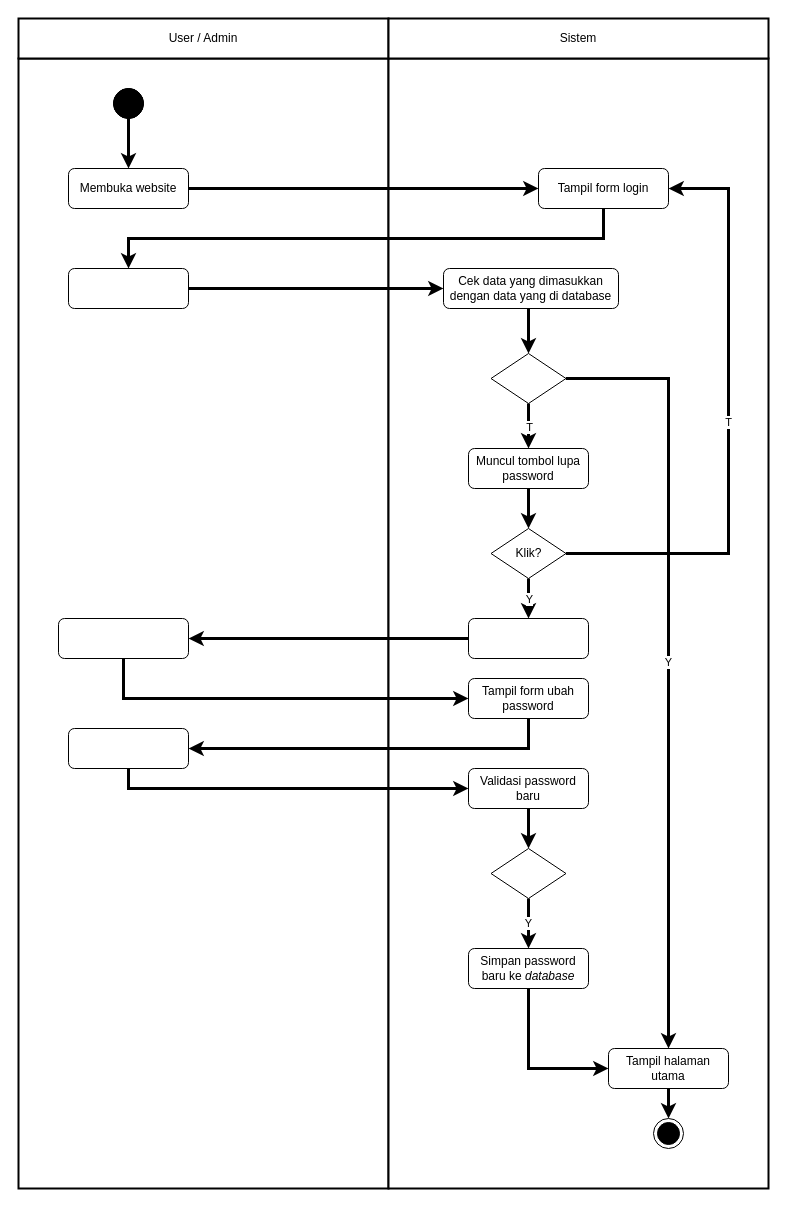
Some shapes in this 786 by 1206 pixel diagram are drawn without their labels. Here are the shapes that lost their labels. From the top down, the centre of each, then its label:
[128,288]: Masukkan username dan password
[528,378]: Sama?
[123,638]: Membuka email dan klik URL yang dikirim
[528,638]: Kirim email berisi URL ubah password
[128,748]: Isi form ubah password
[528,873]: Valid?
